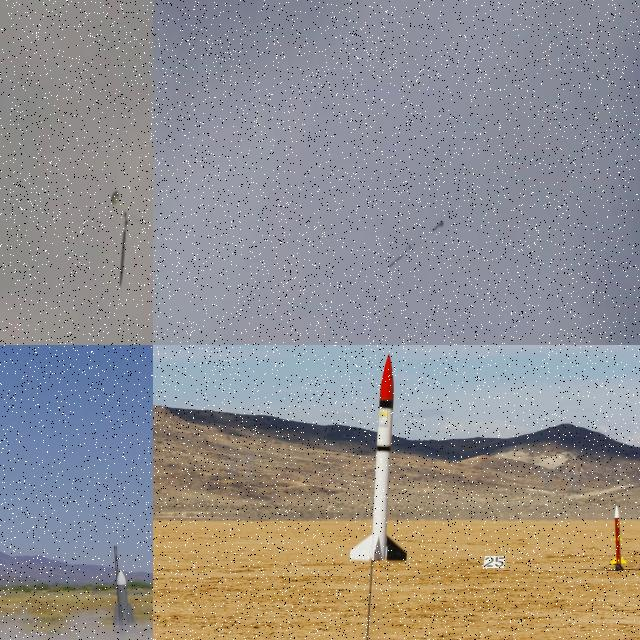Rocket: (349, 352, 409, 563), (112, 569, 138, 636), (610, 505, 628, 564), (432, 220, 443, 232)
